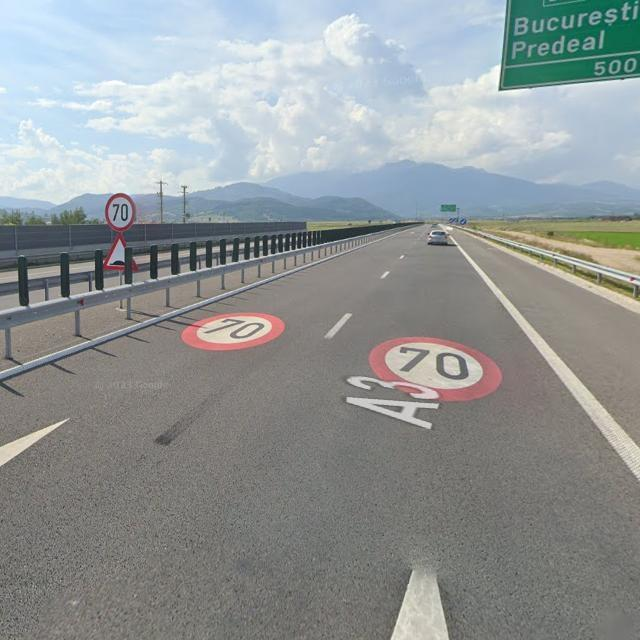forb_speed_over_70: (367, 334, 503, 402), (181, 311, 285, 351), (106, 193, 137, 231)
